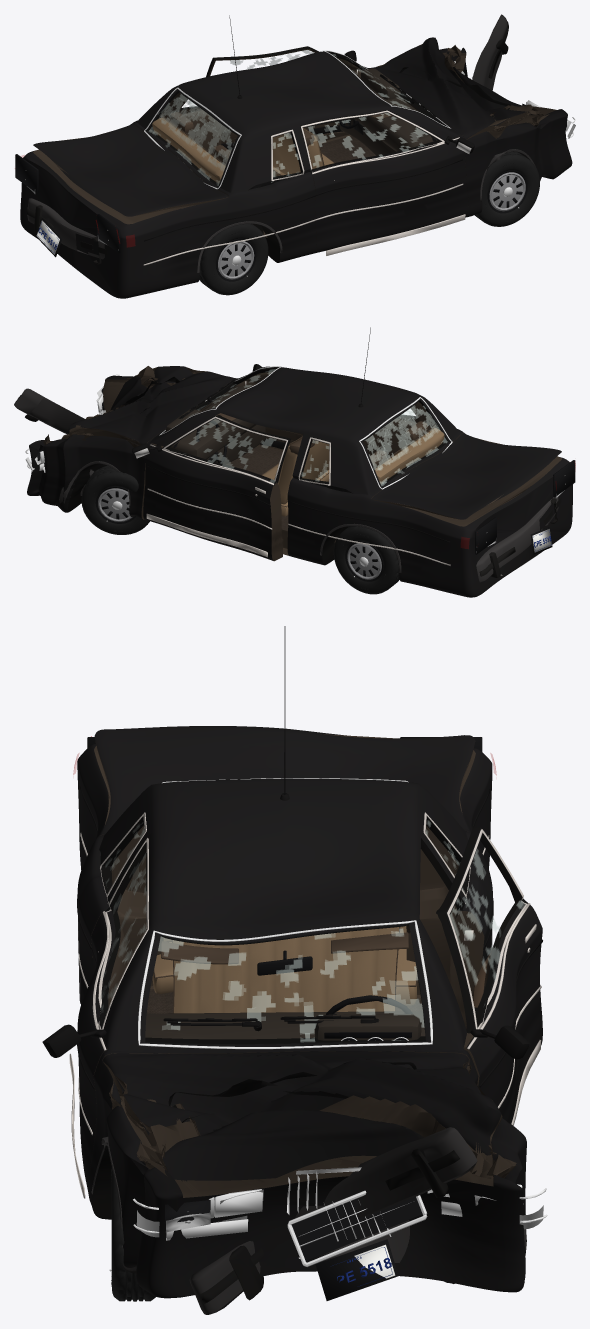
The model's file is coupe84_front_d2_lod1.glb.
The picture shows the model from 3 angles, top to bottom: view 1: azimuth 30°, elevation 25°; view 2: azimuth 150°, elevation 25°; view 3: azimuth 270°, elevation 25°; orthographic projection. The views are drawn at different scales.
Parts seen in each view (by area): view 1: Body, Door_FR, Trunk, Interior, Hood, Glass, Wheel_RR_mesh, Wheel_FR_mesh, Trim_FR, Ends, Trim, Bumper_R (+4 smaller); view 2: Body, Door_FL, Trunk, Interior, Hood, Wheel_RL_mesh, Glass, Wheel_FL_mesh, Trim_FL, Bumper_R, Ends, Trim (+3 smaller); view 3: Body, Hood, Interior, Trunk, Ends, Door_FL, Bumper_F, Glass, Door_FR, Trim_FL, Trim, Trim_FR (+4 smaller).
Boxes of the visible parts, <box> form: Body: <box>20,45,572,298</box>; Door_FR: <box>300,110,468,252</box>; Trunk: <box>33,123,228,216</box>; Interior: <box>152,68,437,183</box>; Hood: <box>371,37,543,139</box>; Glass: <box>144,50,450,189</box>; Wheel_RR_mesh: <box>199,223,268,295</box>; Wheel_FR_mesh: <box>474,152,539,226</box>; Trim_FR: <box>301,110,474,255</box>; Ends: <box>15,47,575,257</box>; Trim: <box>143,15,535,272</box>; Bumper_R: <box>26,198,107,264</box>; Body: <box>27,366,572,597</box>; Door_FL: <box>143,415,290,561</box>; Trunk: <box>372,433,561,519</box>; Interior: <box>166,386,444,516</box>; Hood: <box>61,366,235,445</box>; Wheel_RL_mesh: <box>333,526,399,594</box>; Glass: <box>159,366,452,489</box>; Wheel_FL_mesh: <box>81,465,149,534</box>; Trim_FL: <box>132,416,287,557</box>; Bumper_R: <box>476,497,561,582</box>; Ends: <box>25,374,575,554</box>; Trim: <box>59,327,450,572</box>; Body: <box>77,743,526,1298</box>; Hood: <box>103,1051,502,1181</box>; Interior: <box>145,926,425,1040</box>; Trunk: <box>94,726,475,835</box>; Ends: <box>87,737,547,1300</box>; Door_FL: <box>436,827,542,1123</box>; Bumper_F: <box>189,1127,477,1314</box>; Glass: <box>103,778,464,1049</box>; Door_FR: <box>77,836,150,1191</box>; Trim_FL: <box>447,829,542,1125</box>; Trim: <box>77,626,526,1251</box>; Trim_FR: <box>42,838,148,1198</box>.
Size of the model in its own units: 4.87 by 2.16 by 2.2.
33 materials, 5 textured.
